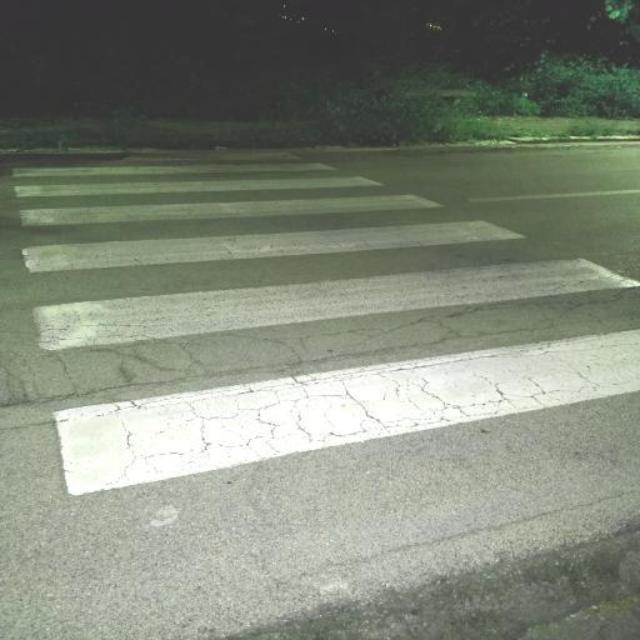sidewalk: (8, 156, 635, 501)
